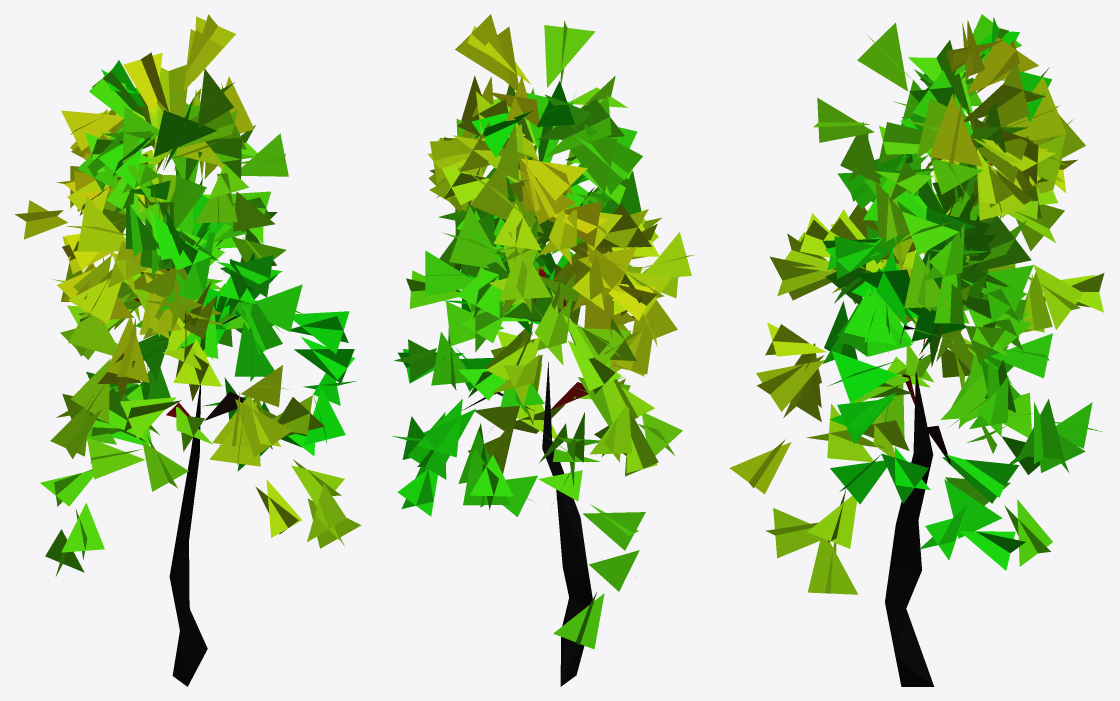
Rendered from birch 1 lod4.FBX.
The picture shows the model from 3 angles, left to right: view 1: azimuth 30°, elevation 25°; view 2: azimuth 150°, elevation 25°; view 3: azimuth 270°, elevation 25°; orthographic projection. The views are drawn at different scales.
Parts seen in each view (by area): view 1: birch1_lod0_LOD4; view 2: birch1_lod0_LOD4; view 3: birch1_lod0_LOD4.
Boxes of the visible parts, box(x1,y1,x2,y2) form: birch1_lod0_LOD4: box(15, 14, 361, 686); birch1_lod0_LOD4: box(391, 14, 694, 686); birch1_lod0_LOD4: box(729, 14, 1104, 686).
Bounding box in the file's own units: 73758 × 163074 × 80005.
